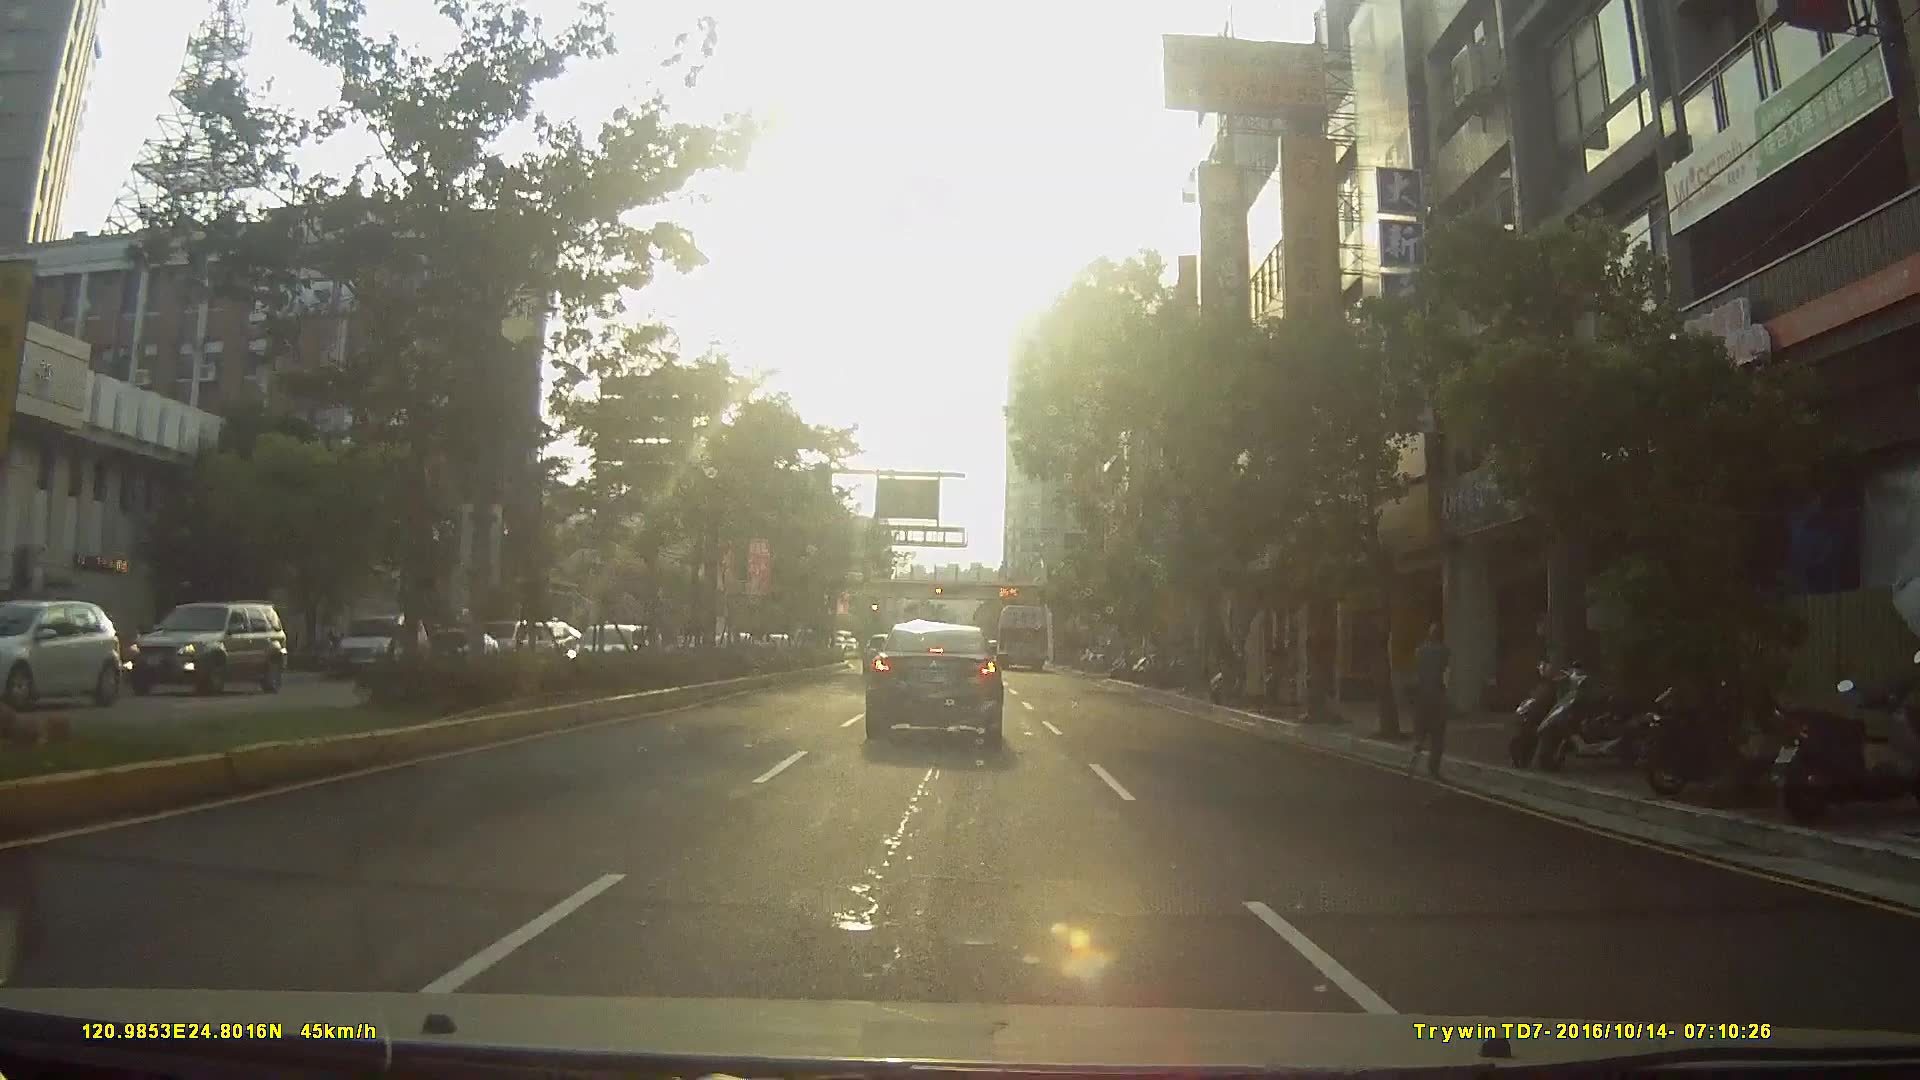pedestrian: (1398, 618, 1457, 771)
vehicle: (118, 597, 292, 704), (863, 616, 1004, 737), (2, 593, 142, 708), (330, 611, 426, 675), (995, 599, 1049, 666)
